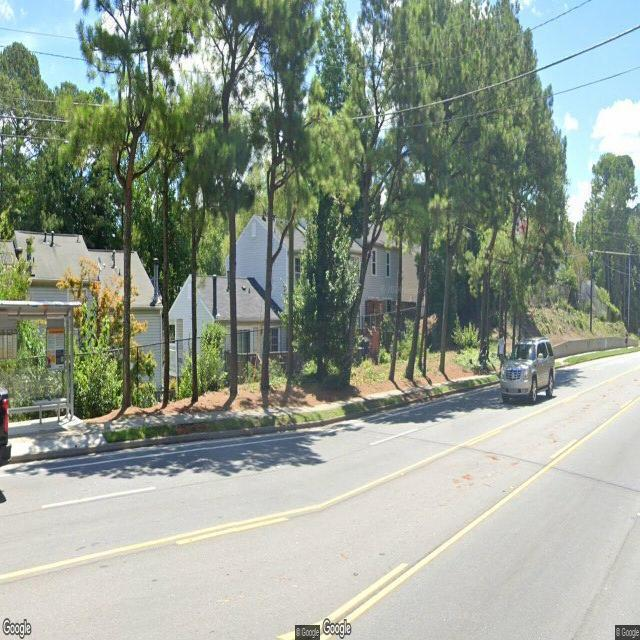seating: (32, 396, 66, 424)
shelter: (0, 300, 82, 433)
